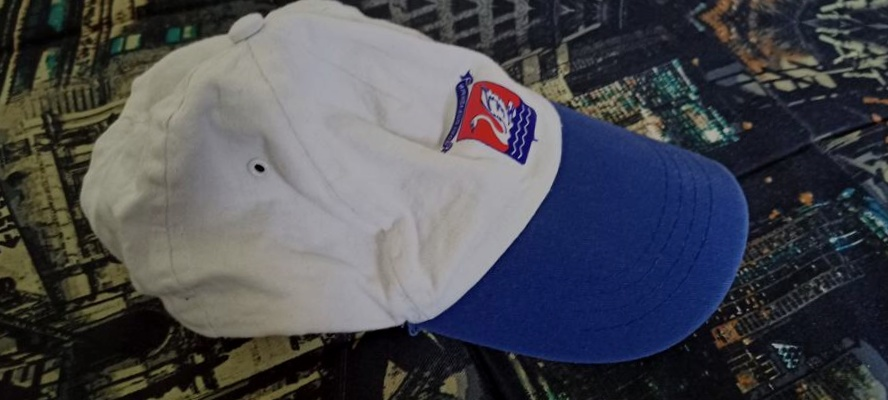Hat: (81, 0, 792, 397), (100, 0, 812, 21)
